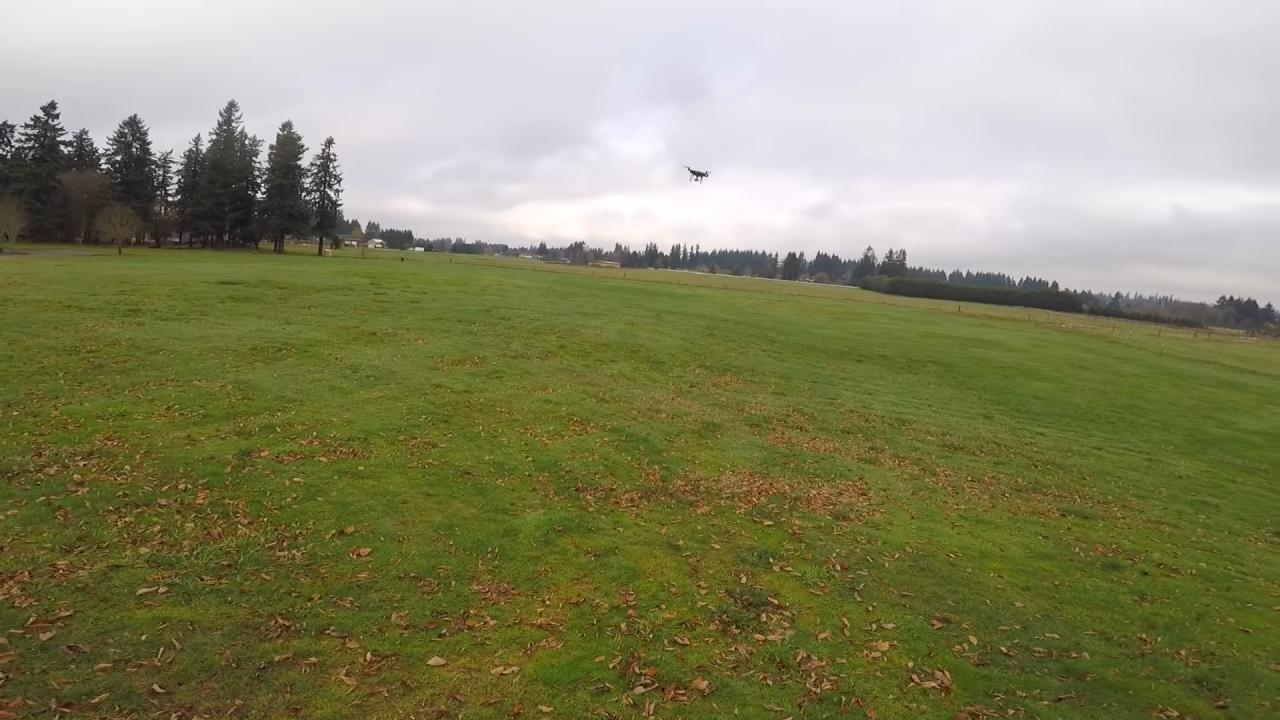Drone: (677, 158, 717, 188)
